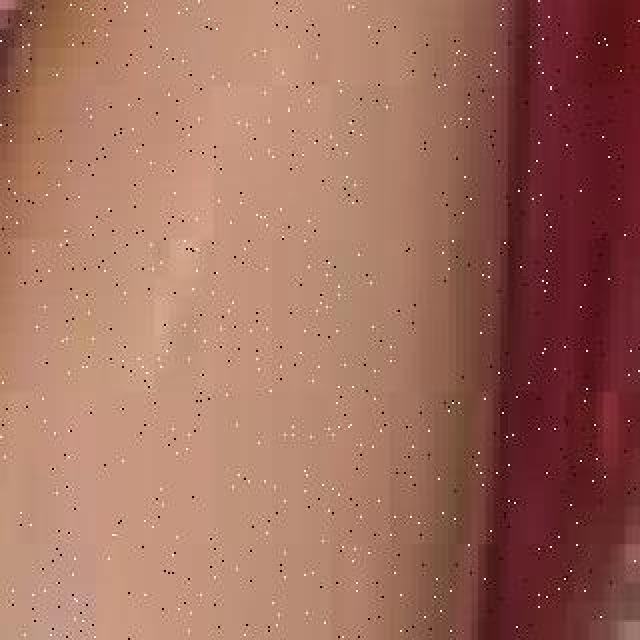cavities: (590, 22, 640, 640)
